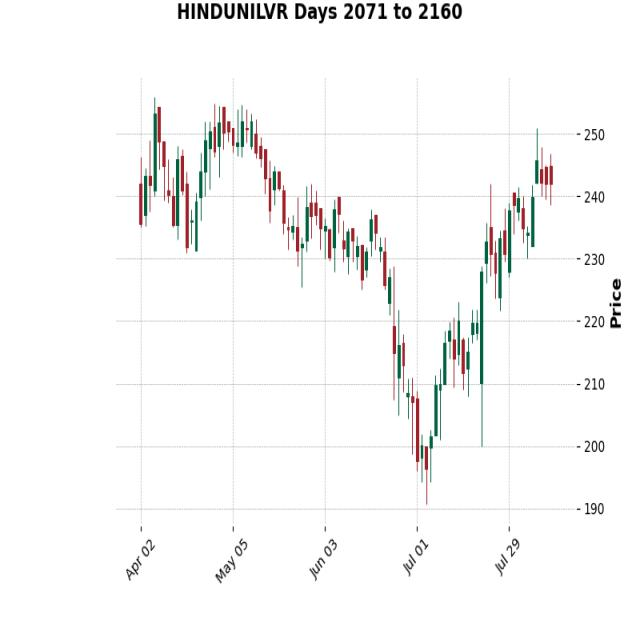Inverse Head and Shoulder: (367, 302, 522, 514)
